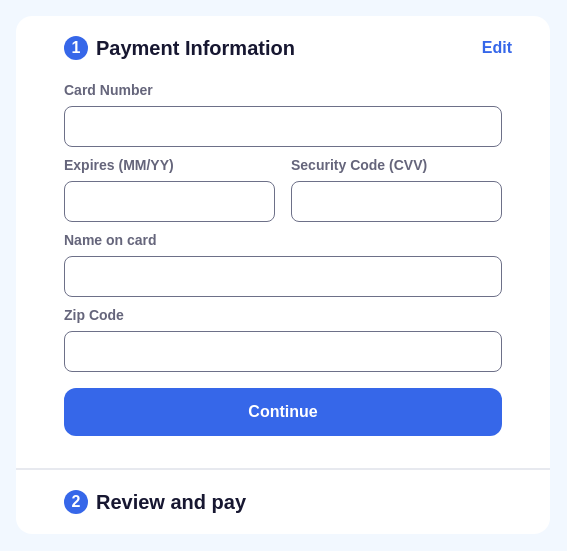
it: PaymentForm › if all fields are valid show review and pay
Type "1212 1212 1212 1212" into the field labelled "Card Number". click: (283, 126)
box: [64, 106, 502, 147]
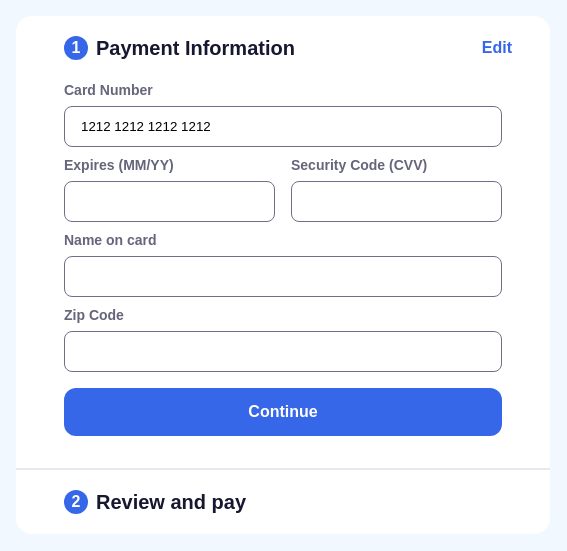
Type "09/27" into the field labelled "Expires (MM/YY)". click: (170, 202)
box: [64, 181, 275, 222]
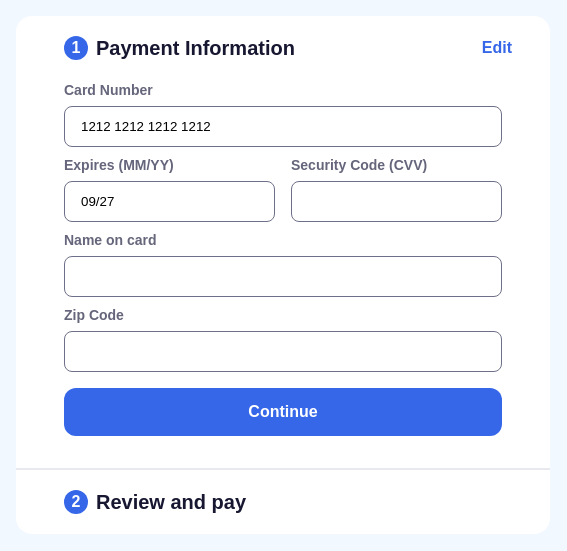
Type "212" into the field labelled "Security Code (CVV)". click: (396, 202)
box: [291, 181, 502, 222]
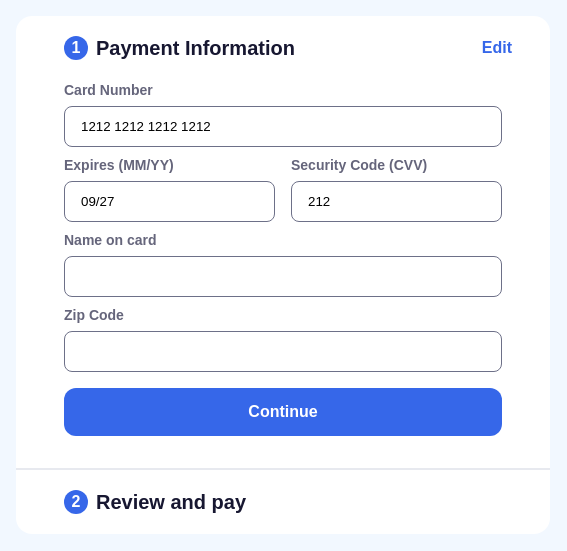
Type "Saleh Kaddoura" into the field labelled "Name on card". click: (283, 276)
box: [64, 256, 502, 297]
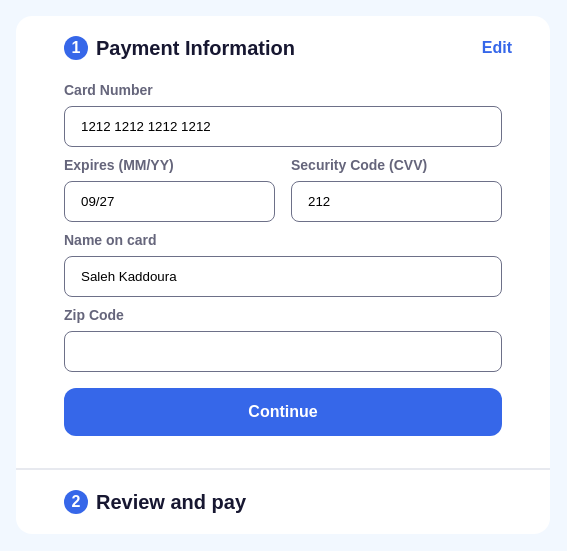
Type "94061" into the field labelled "Zip Code". click: (283, 352)
box: [64, 331, 502, 372]
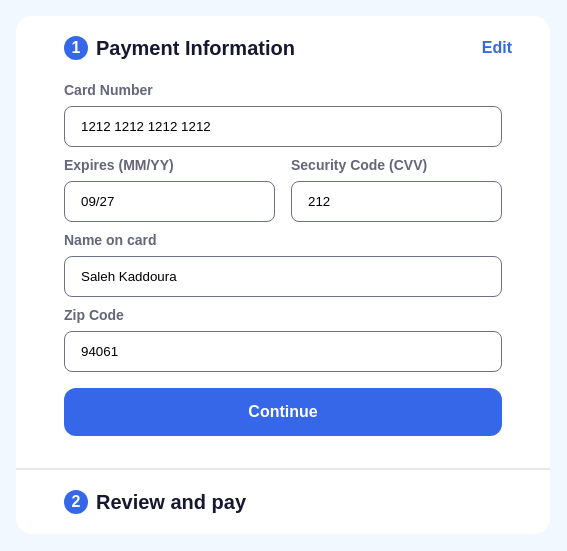
Click the button "Continue". click: (283, 412)
box: [64, 388, 502, 436]
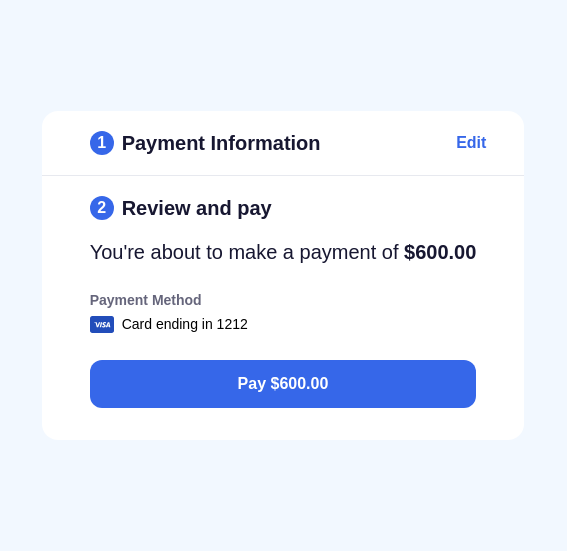
Expected: the button "Pay $600.00" is shown, [90, 360, 476, 408]
